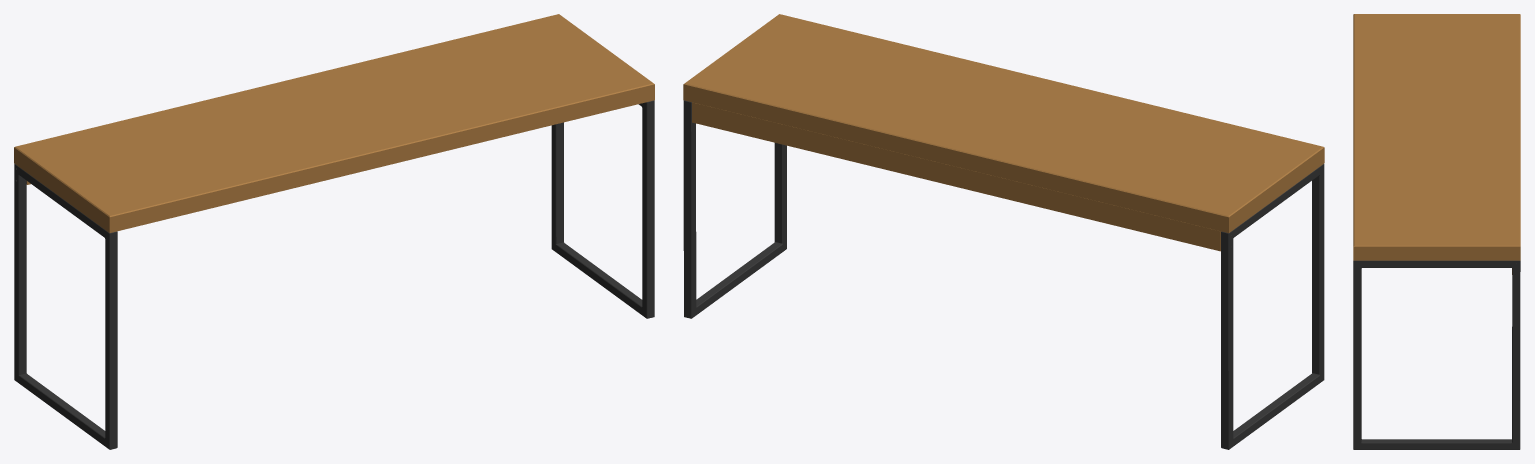
Rendered from table_2m.fbx.
3 views of the same model, side by side, from view 1: azimuth 30°, elevation 25°; view 2: azimuth 150°, elevation 25°; view 3: azimuth 270°, elevation 25° (orthographic). The views are drawn at different scales.
Parts seen in each view (by area): view 1: sm_table_2m; view 2: sm_table_2m; view 3: sm_table_2m.
Boxes of the visible parts, box(x1,y1,x2,y2) form: sm_table_2m: box(14, 14, 654, 449); sm_table_2m: box(683, 14, 1324, 449); sm_table_2m: box(1353, 14, 1520, 449).
Bounding box in the file's own units: 200 × 81.94 × 60.75.
